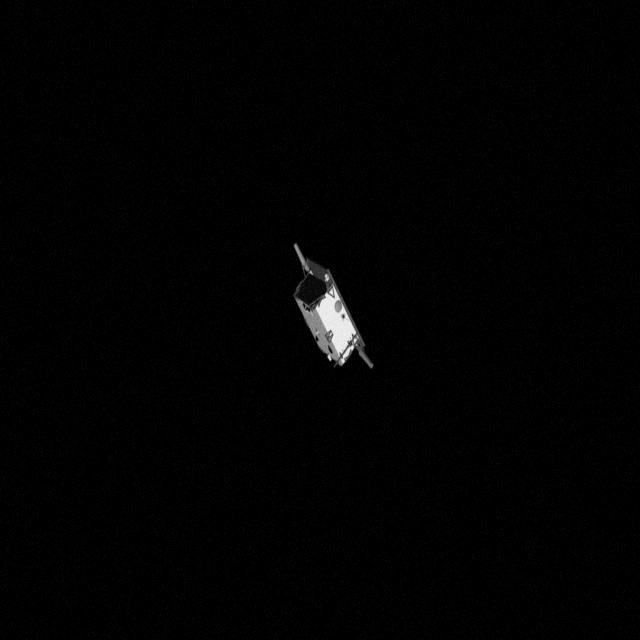satellite: (280, 240, 388, 370)
